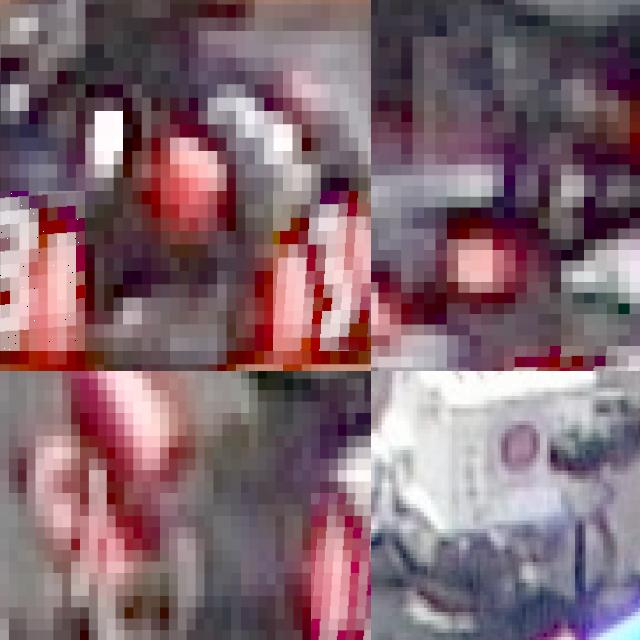R3: (273, 191, 371, 351), (0, 191, 85, 351), (311, 493, 371, 640)
